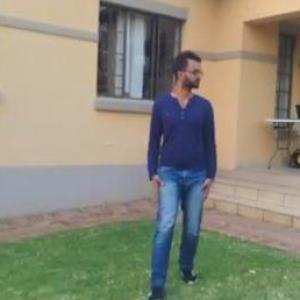follow: (137, 37, 222, 299)
